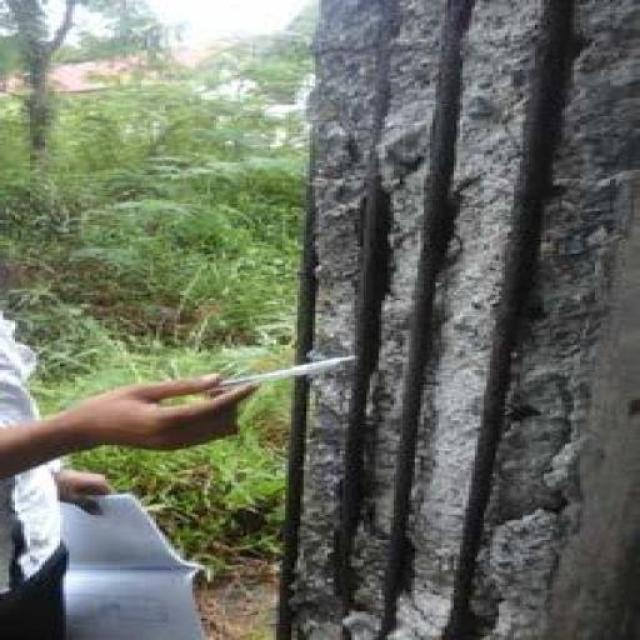D0w0: (279, 0, 636, 639)
